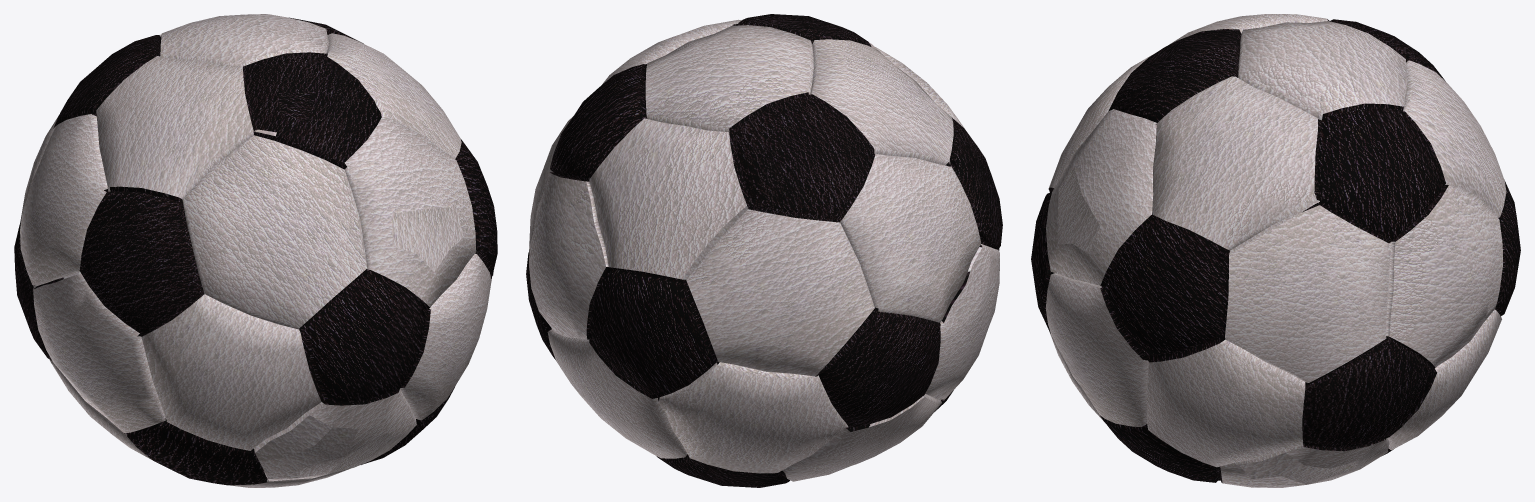
3 renders of one model, left to right at view 1: azimuth 30°, elevation 25°; view 2: azimuth 150°, elevation 25°; view 3: azimuth 270°, elevation 25°, orthographic.
Visible parts, largest first — view 1: Football; view 2: Football; view 3: Football.
Boxes of the visible parts, x1,y1,x2,y2 form: Football: (14,14,497,487); Football: (526,14,1002,487); Football: (1031,14,1520,487).
Bounding box in the file's own units: 5.1 × 5.06 × 5.25.
1 material, 1 textured.
